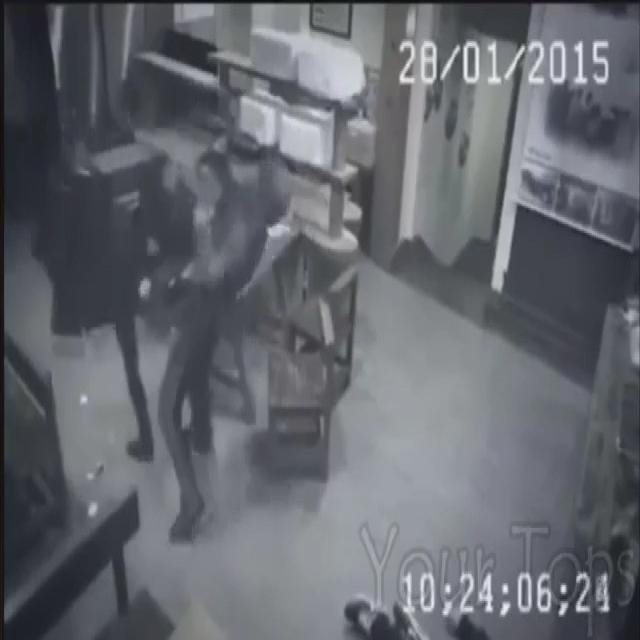fight: (42, 113, 306, 505)
